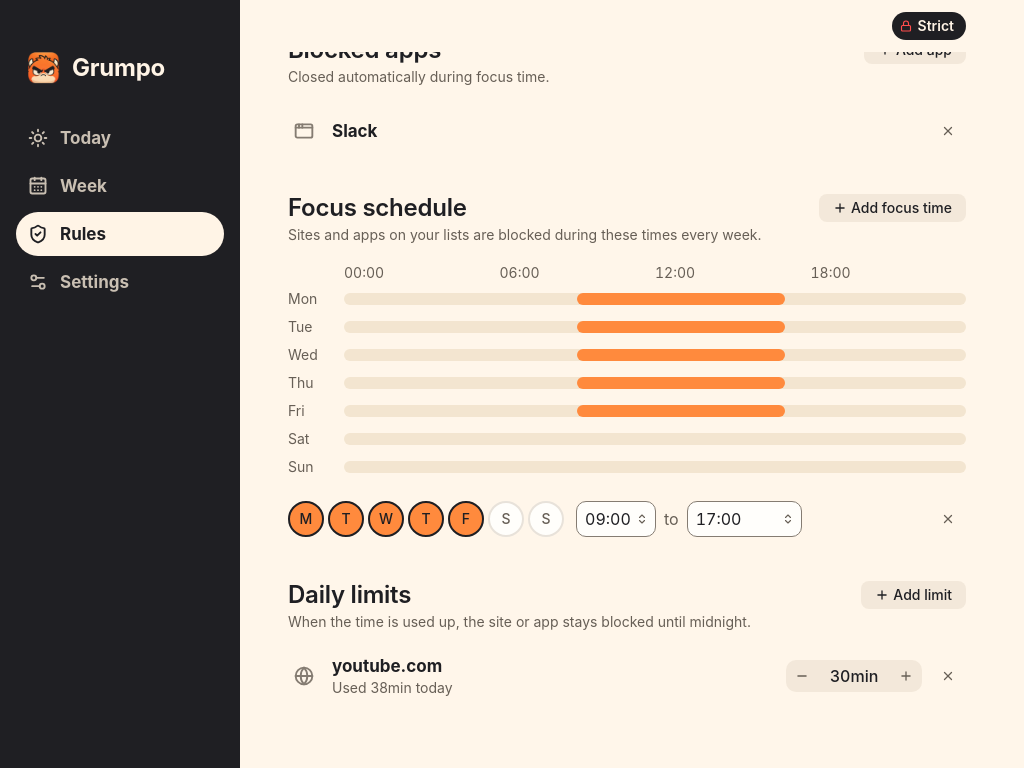
it: saving while focus is locked › locks removing a daily limit outside focus time and says what the unlock is for
The width and height of the screenshot is (1024, 768).
(page scrolled)
Click the button named "Remove the limit for youtube.com".
click(948, 676)  # box [930,658,966,694]
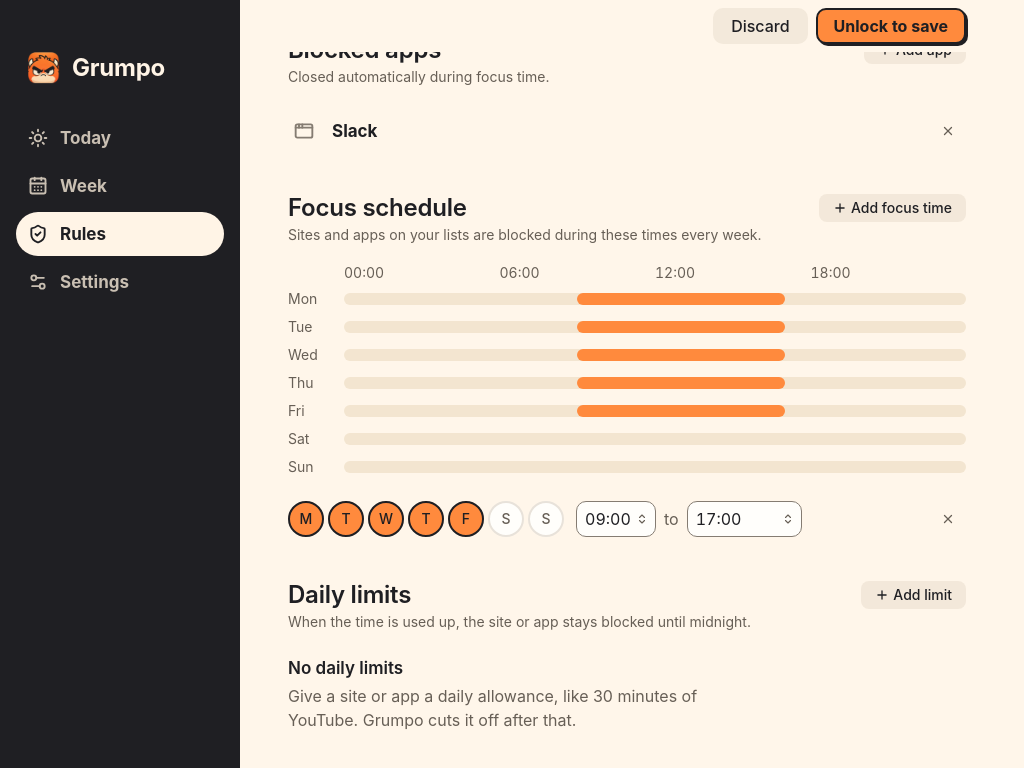
Click the button "Unlock to save".
click(891, 26)  # box [816,8,966,44]
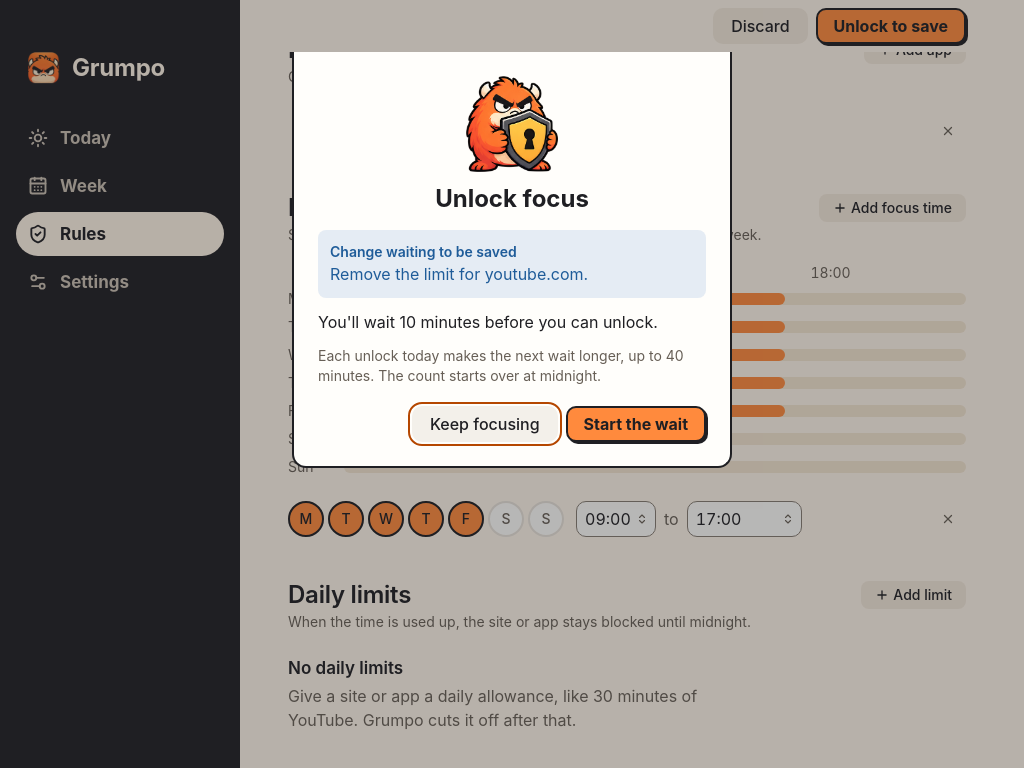
Expected: the text "Remove the limit for youtube.com." is shown, [330,264,588,284]
